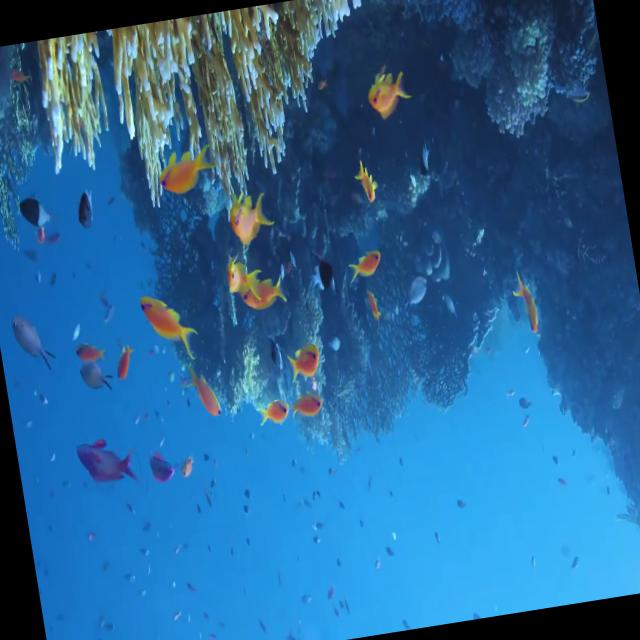fish: (132, 277, 208, 377), (150, 130, 226, 219), (217, 180, 286, 266), (70, 428, 144, 502), (356, 55, 422, 134), (5, 312, 70, 384), (498, 256, 550, 346), (234, 262, 296, 332), (181, 357, 229, 438), (64, 177, 110, 252), (336, 239, 388, 299), (9, 190, 61, 242), (76, 355, 120, 416), (246, 386, 298, 434), (348, 154, 385, 217), (282, 334, 326, 386), (298, 258, 340, 310), (143, 444, 183, 491), (68, 329, 110, 372), (358, 285, 388, 339), (113, 334, 142, 388), (290, 384, 328, 422), (222, 252, 246, 300)
